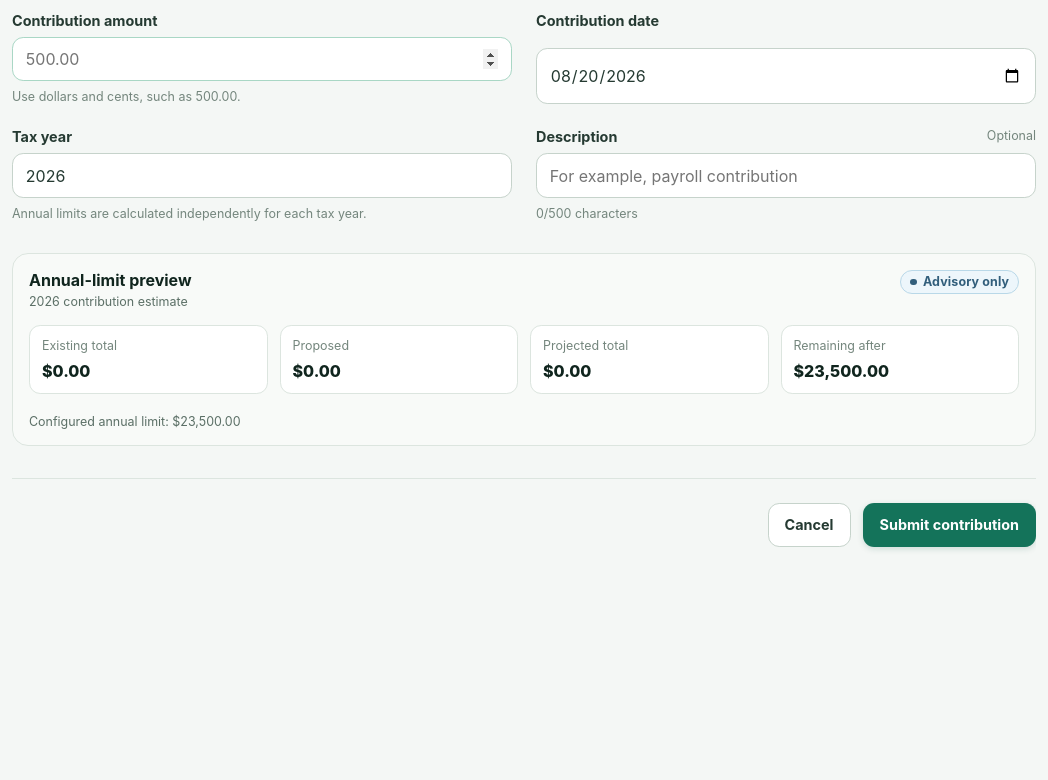
Test: ContributionForm › shows accessible validation feedback without submitting invalid input
Step 1. Click the button "Submit contribution" → click(949, 525), box [862, 503, 1036, 547]
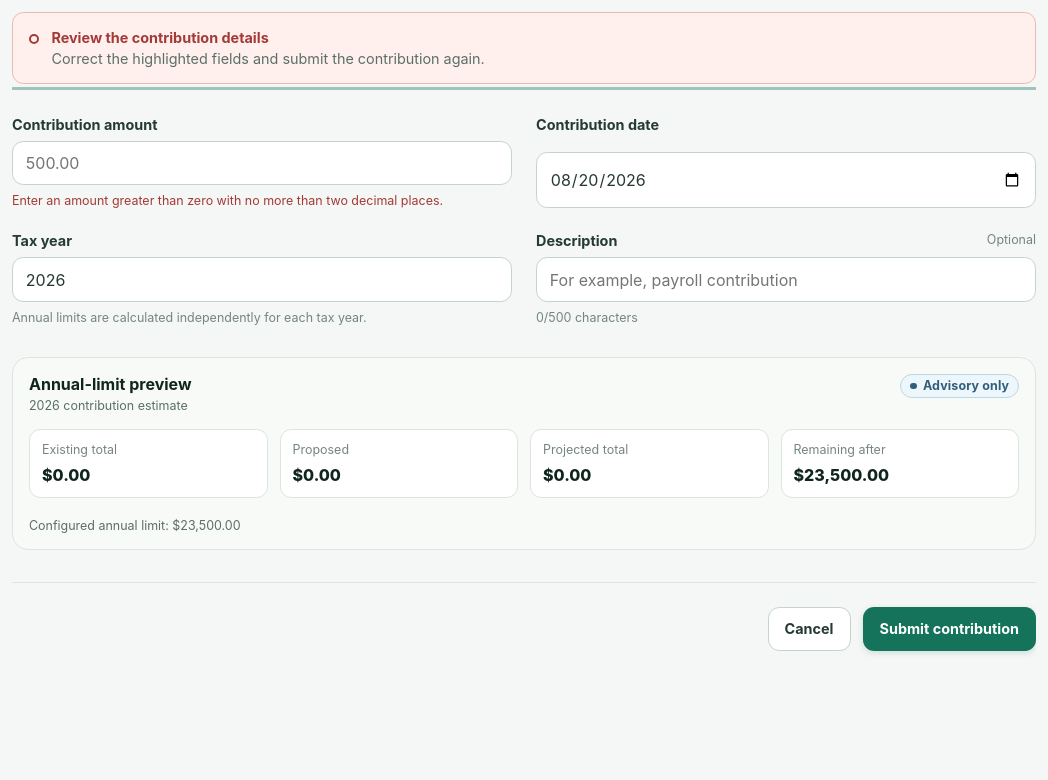
Expected: the message shows "Review the contribution details", [51, 29, 269, 46]
